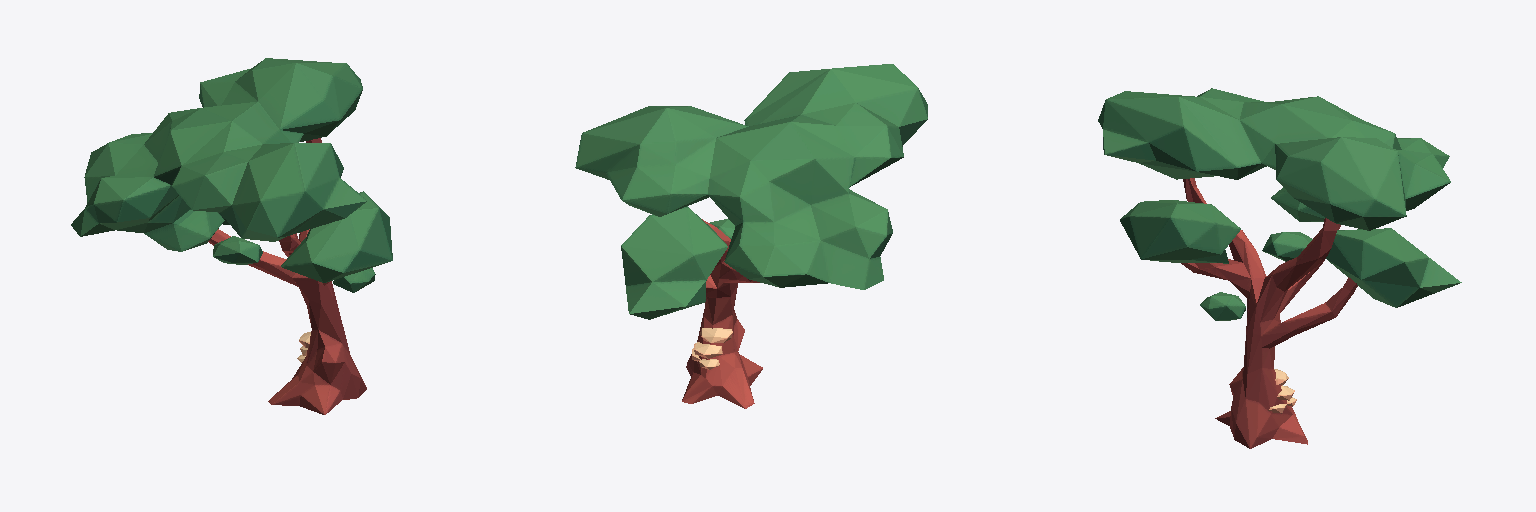
3 renders of one model, left to right at view 1: azimuth 30°, elevation 25°; view 2: azimuth 150°, elevation 25°; view 3: azimuth 270°, elevation 25°, orthographic.
Parts seen in each view (by area): view 1: obj1; view 2: obj1; view 3: obj1.
Boxes of the visible parts, x1,y1,x2,y2 form: obj1: [71, 58, 392, 414]; obj1: [575, 64, 927, 408]; obj1: [1098, 88, 1461, 448].
Bounding box in the file's own units: 5.35 × 5.37 × 5.77.
1 materials, 1 textured.